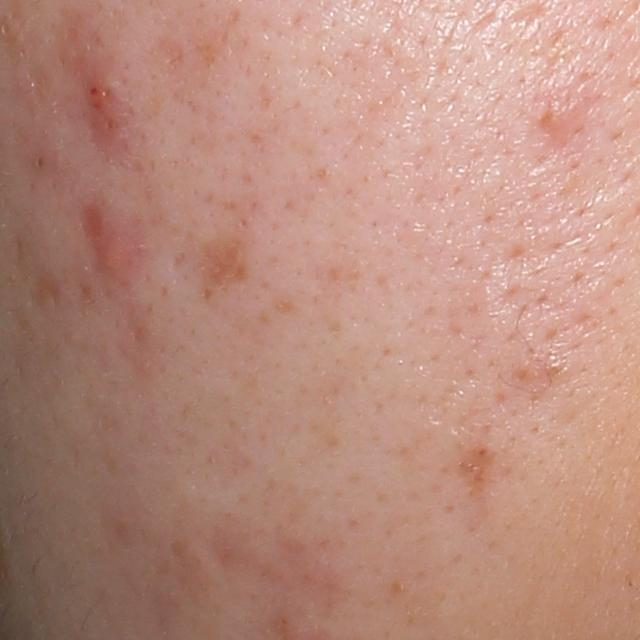comedo: (34, 155, 46, 171)
papule: (79, 73, 125, 129)
